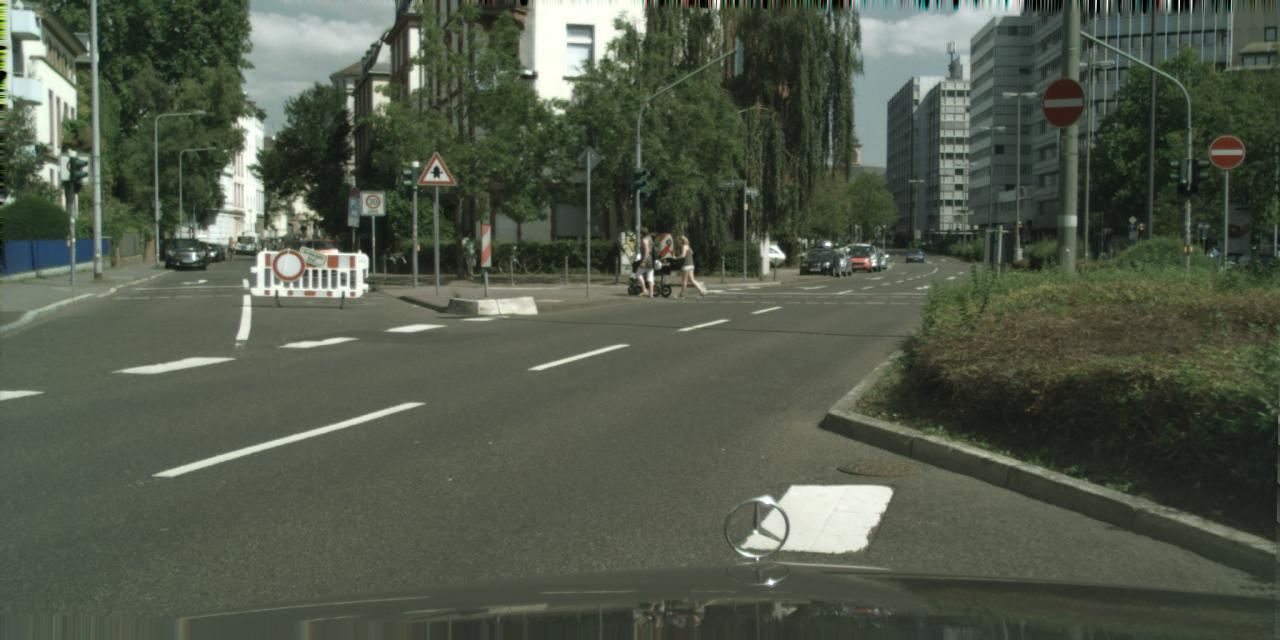ped: (631, 227, 659, 296), (673, 234, 699, 298), (459, 229, 479, 280), (332, 235, 344, 267), (1207, 245, 1219, 275), (225, 234, 236, 260), (845, 238, 852, 256)
